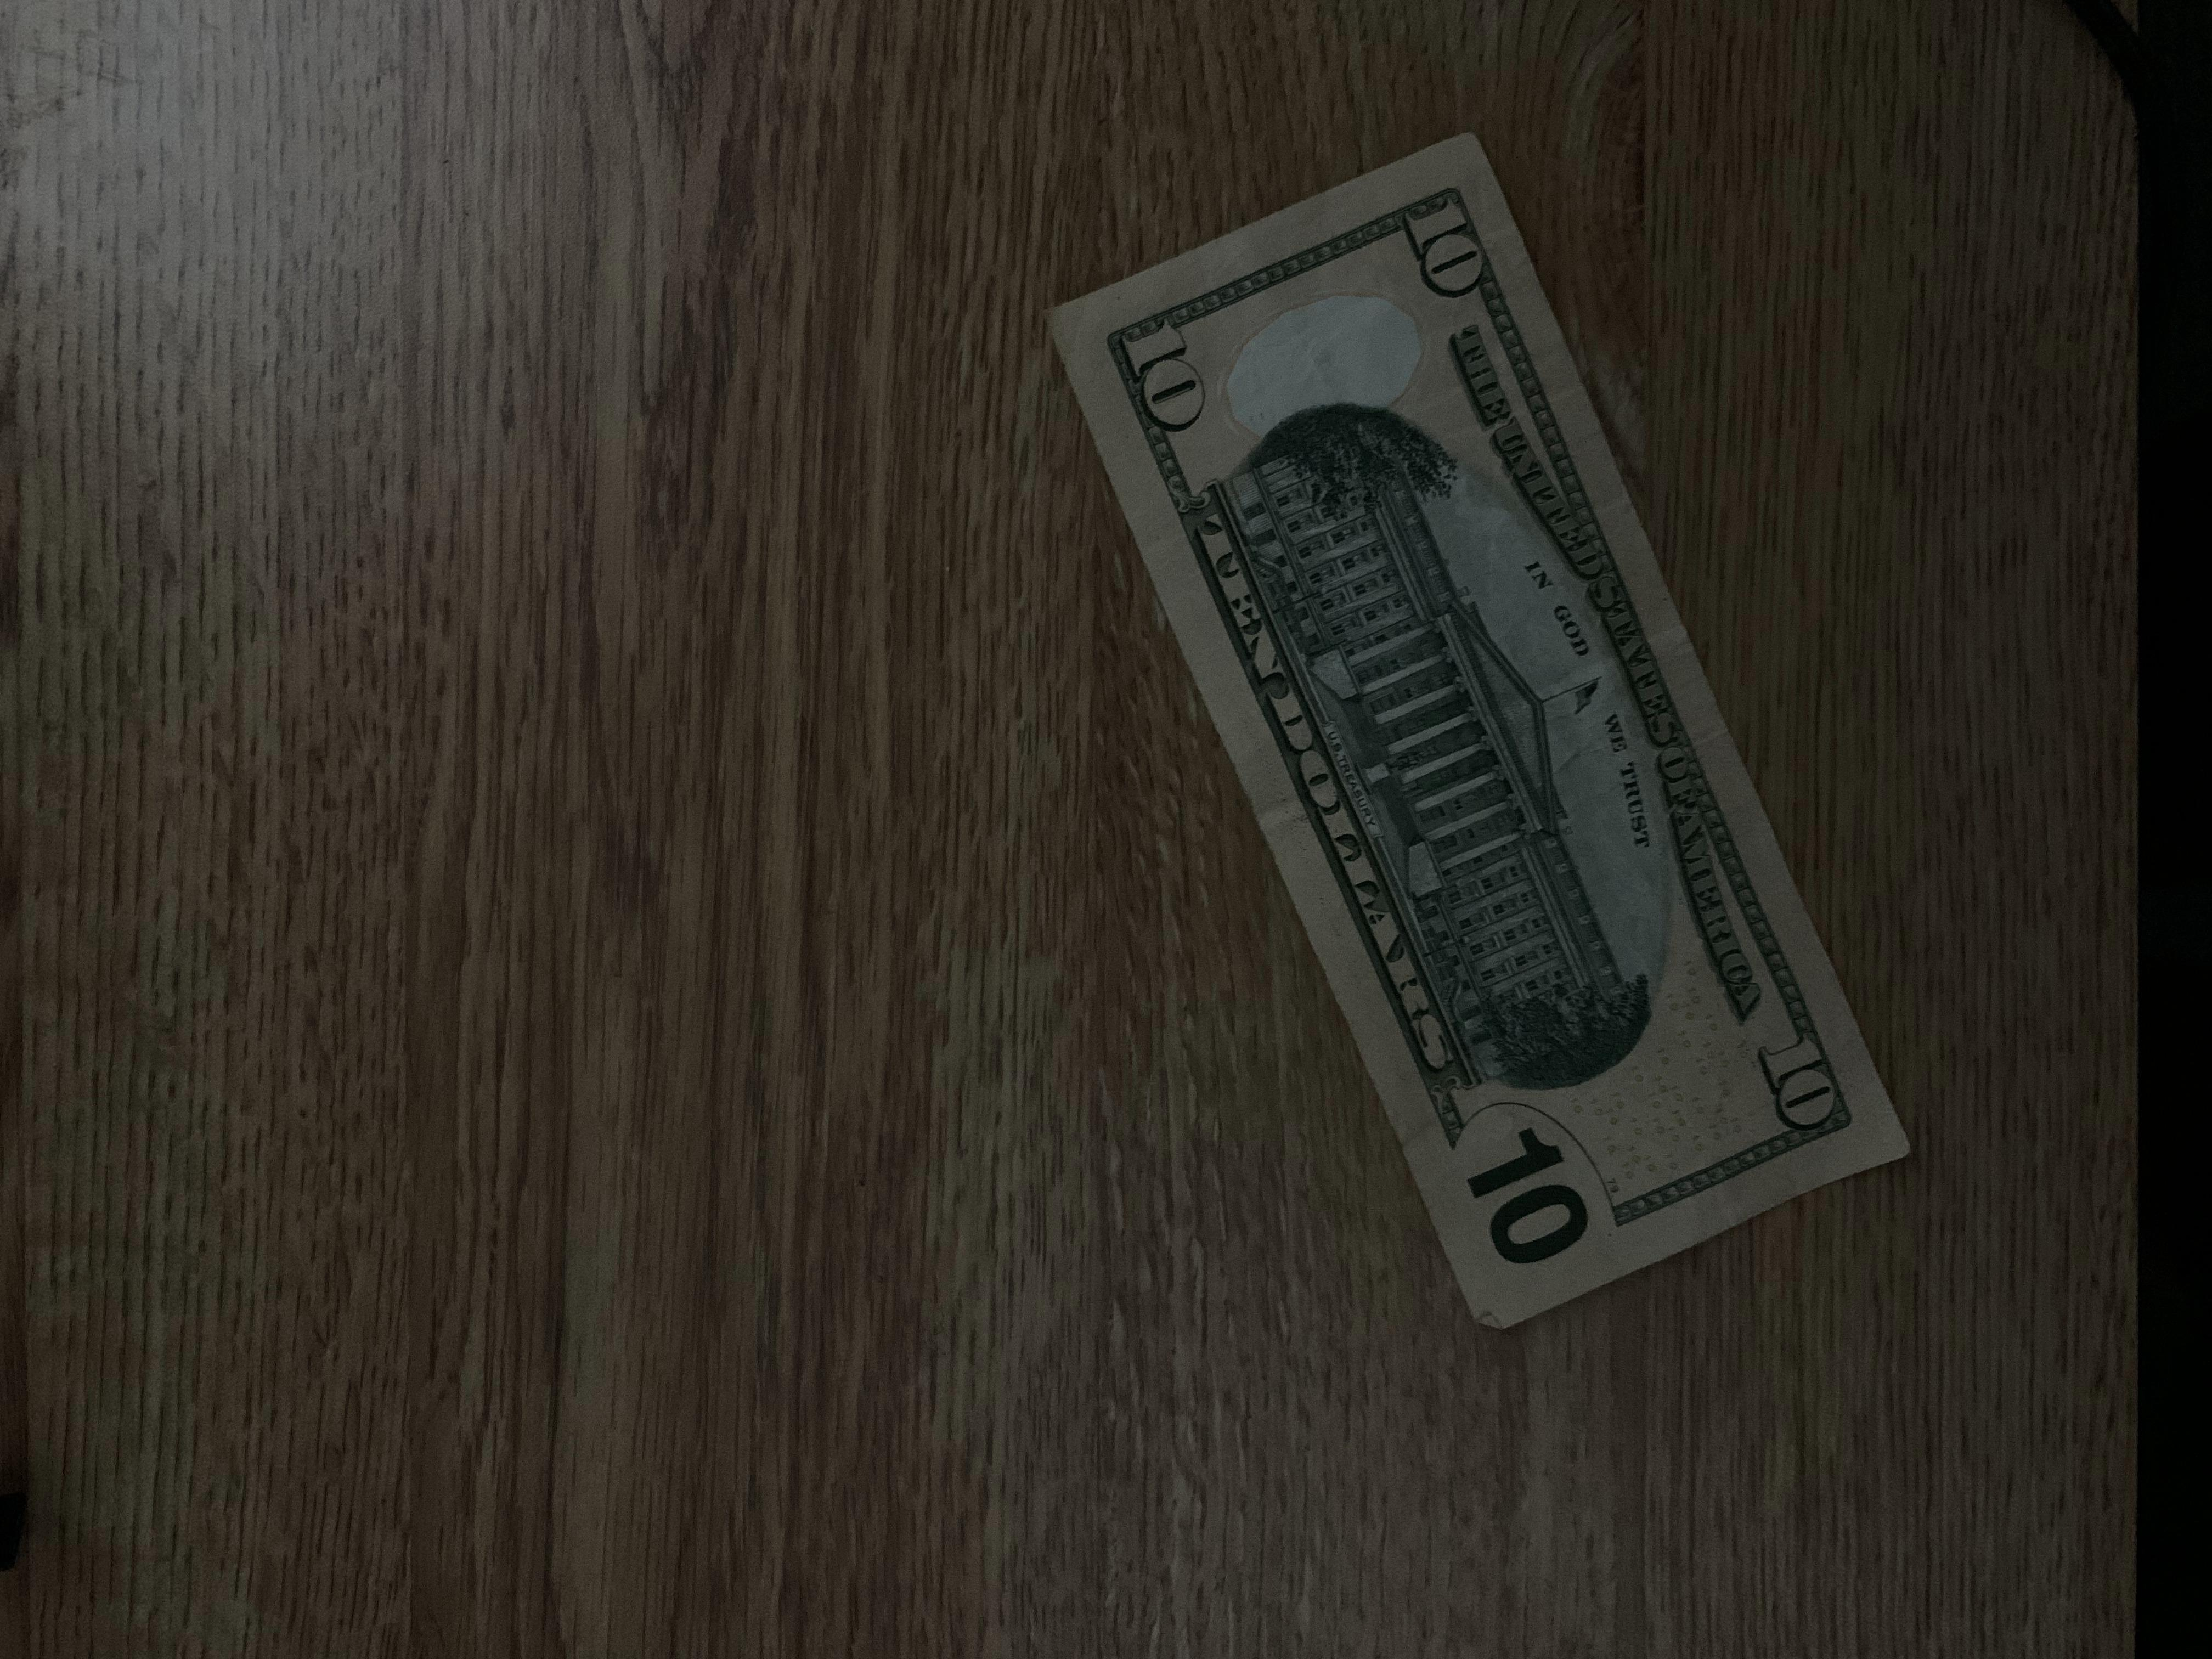TenBill: (1021, 132, 1921, 1337)
